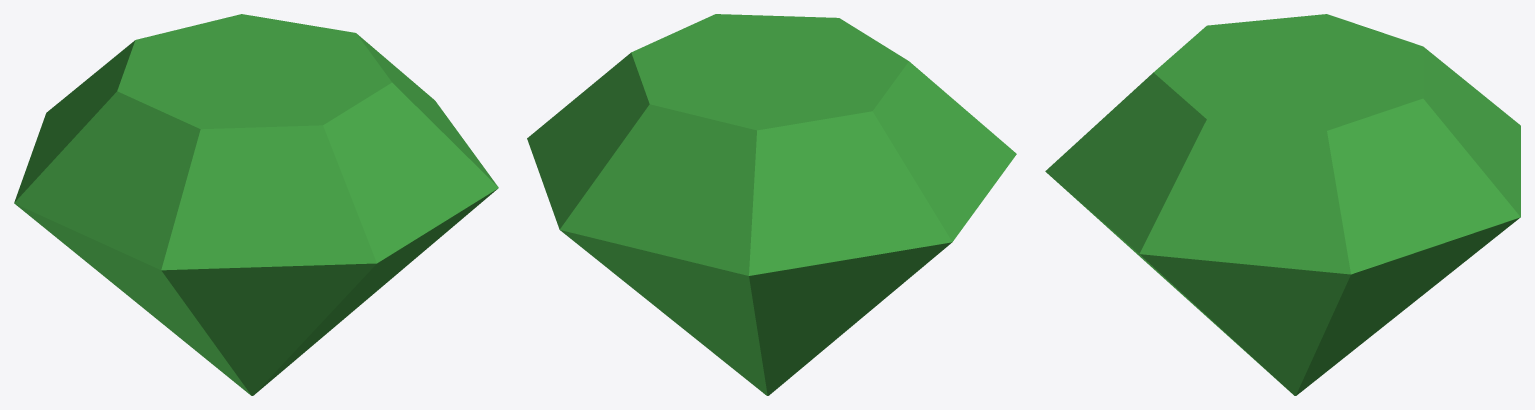
File: Emerald.fbx
The picture shows the model from 3 angles, left to right: view 1: azimuth 30°, elevation 25°; view 2: azimuth 150°, elevation 25°; view 3: azimuth 270°, elevation 25°; orthographic projection.
Parts seen in each view (by area): view 1: Green Gem; view 2: Green Gem; view 3: Green Gem.
Boxes of the visible parts, left/top/right/bottom form: Green Gem: left=14, top=14, right=498, bottom=395; Green Gem: left=527, top=14, right=1016, bottom=395; Green Gem: left=1045, top=14, right=1520, bottom=395.
Size of the model in its own units: 137 by 99.92 by 133.
